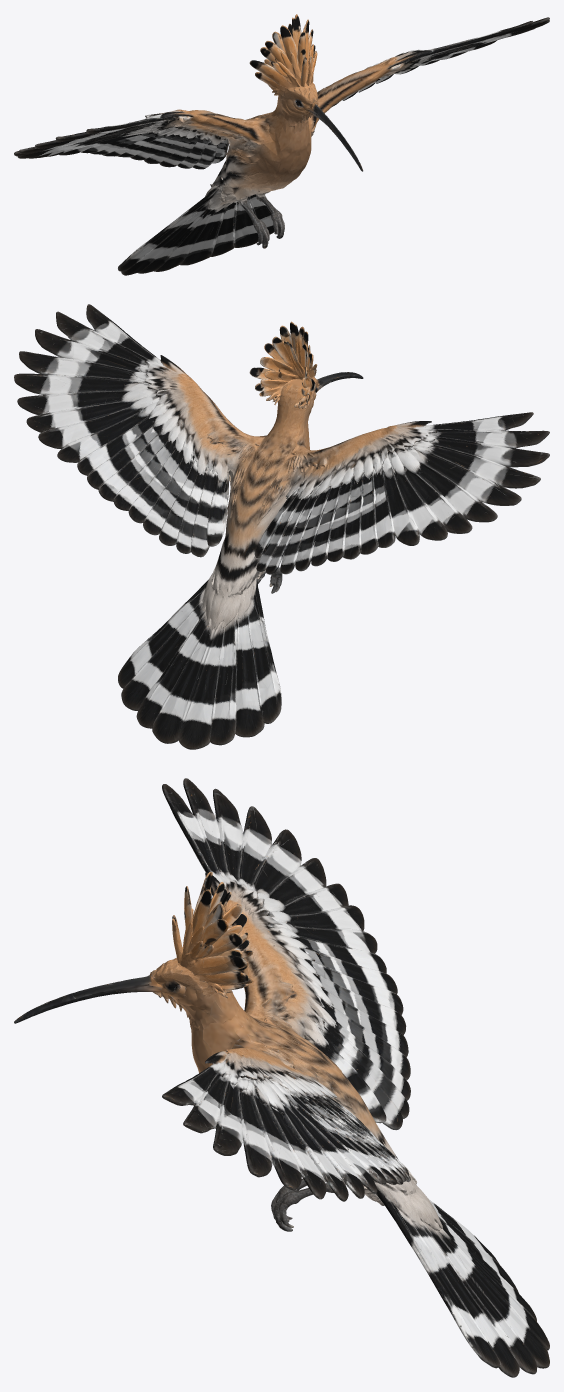
The picture shows the model from 3 angles, top to bottom: view 1: azimuth 30°, elevation 25°; view 2: azimuth 150°, elevation 25°; view 3: azimuth 270°, elevation 25°; orthographic projection. The views are drawn at different scales.
Parts seen in each view (by area): view 1: Mesh_0; view 2: Mesh_0; view 3: Mesh_0.
Boxes of the visible parts, x1=… form: Mesh_0: x1=14, y1=14, x2=549, y2=275; Mesh_0: x1=14, y1=304, x2=549, y2=749; Mesh_0: x1=14, y1=778, x2=549, y2=1377.
Bounding box in the file's own units: 1.9 × 1.18 × 1.18.
1 material, 1 textured.
